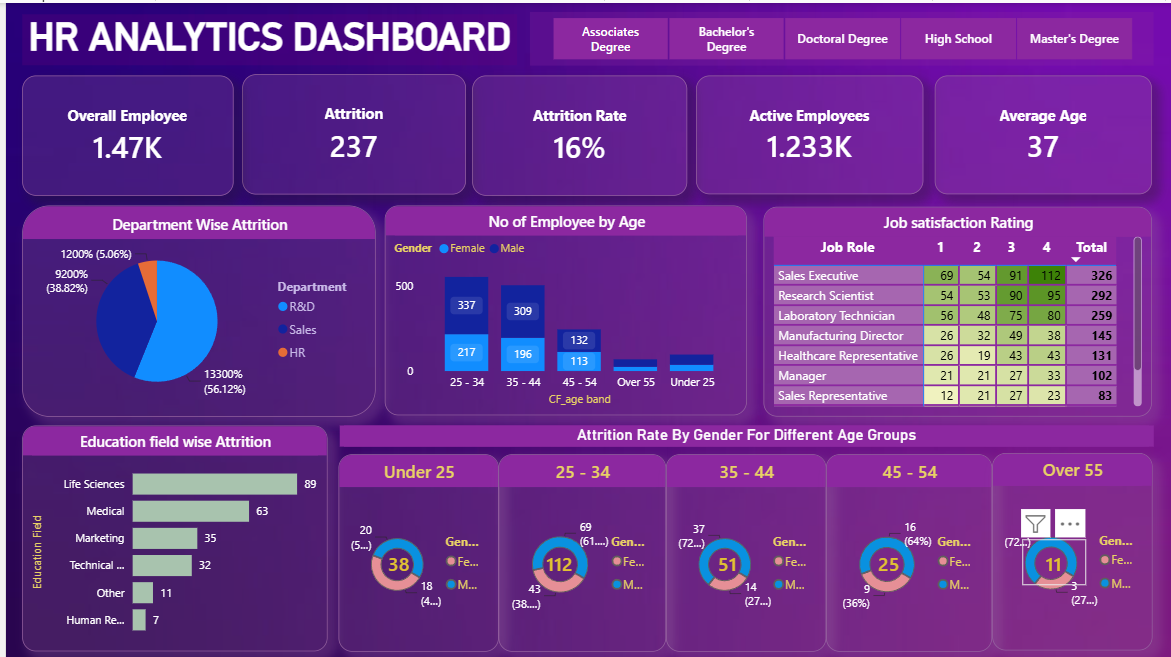

This screenshot's page, from the dashboard's own definition file:
{"tool":"powerbi","page":{"name":"Page 1","canvas":[1280,720],"ordinal":0},"visuals":[{"type":"cardVisual","fields":{"Data":["Sum(HR data.Attriction Count)"]},"box":[259.3,78.2,245.6,131.7],"z":0},{"type":"cardVisual","fields":{"Data":["HR data.Attrition Rate"]},"box":[511.8,79.6,236,131.7],"z":1000},{"type":"cardVisual","title":"Overall Employees","fields":{"Data":["Sum(HR data.Employee Count)"]},"box":[17.8,79.6,231.9,131.7],"z":2000},{"type":"cardVisual","title":"Active Employees","fields":{"Data":["HR data.Active Employees"]},"box":[757.5,79.6,249.7,130.4],"z":3000},{"type":"cardVisual","title":"Average Age","fields":{"Data":["Avg(HR data.Age)"]},"box":[1019.6,79.6,238.8,130.4],"z":4000},{"type":"pieChart","title":"Department Wise Attrition ","fields":{"Category":["HR data.Department"],"Y":["Sum(HR data.Attriction Count)"]},"box":[17.8,222.3,388.3,231.9],"z":5000},{"type":"columnChart","title":"No of Employee  by Age","fields":{"Category":["HR data.CF_age band"],"Y":["Sum(HR data.Employee Count)"],"Series":["HR data.Gender"]},"box":[415.8,222.3,397.9,230.5],"z":6000},{"type":"pivotTable","title":"Job satisfaction Rating","fields":{"Rows":["HR data.Job Role"],"Columns":["HR data.Job Satisfaction"],"Values":["Sum(HR data.Employee Count)"]},"box":[831.6,223.7,426.8,230.5],"z":7000},{"type":"barChart","title":"Education field wise Attrition","fields":{"Category":["HR data.Education Field"],"Y":["Sum(HR data.Attriction Count)"]},"box":[17.8,463.8,334.8,248.4],"z":8000},{"type":"donutChart","title":"Under 25","fields":{"Category":["HR data.Gender"],"Y":["Sum(HR data.Attriction Count)"],"Series":["HR data.CF_age band"]},"box":[365,495.4,175.6,216.8],"z":9000},{"type":"textbox","title":"Attrition Rate By Gender For Different Age Groups","box":[366.4,463.8,893.3,23.3],"z":10000},{"type":"donutChart","title":"25 - 34","fields":{"Category":["HR data.Gender"],"Y":["Sum(HR data.Attriction Count)"],"Series":["HR data.CF_age band"]},"box":[540.7,495.4,183.9,216.8],"z":11000},{"type":"donutChart","title":"35 - 44","fields":{"Category":["HR data.Gender"],"Y":["Sum(HR data.Attriction Count)"],"Series":["HR data.CF_age band"]},"box":[724.5,495.4,175.6,216.8],"z":12000},{"type":"donutChart","title":"45 - 54","fields":{"Category":["HR data.Gender"],"Y":["Sum(HR data.Attriction Count)"],"Series":["HR data.CF_age band"]},"box":[900.2,495.4,182.5,216.8],"z":13000},{"type":"donutChart","title":"Over 55","fields":{"Category":["HR data.Gender"],"Y":["Sum(HR data.Attriction Count)"],"Series":["HR data.CF_age band"]},"box":[1082.7,494,175.6,216.8],"z":14000},{"type":"cardVisual","title":"Average Age","fields":{"Data":["Sum(HR data.Attriction Count)"]},"box":[396.6,588.7,70,50.8],"z":15000},{"type":"cardVisual","title":"Average Age","fields":{"Data":["Sum(HR data.Attriction Count)"]},"box":[561.2,588.7,93.3,50.8],"z":16000},{"type":"cardVisual","title":"Average Age","fields":{"Data":["Sum(HR data.Attriction Count)"]},"box":[757.5,588.7,70,50.8],"z":17000},{"type":"cardVisual","title":"Average Age","fields":{"Data":["Sum(HR data.Attriction Count)"]},"box":[934.5,588.7,70,50.8],"z":18000},{"type":"cardVisual","title":"Average Age","fields":{"Data":["Sum(HR data.Attriction Count)"]},"box":[1115.6,588.7,70,50.8],"z":19000},{"type":"textbox","title":"HR ANALYTICS DASHBOARD","box":[17.8,12.3,543.4,56.3],"z":20000},{"type":"slicer","fields":{"Values":["HR data.Education"]},"box":[575,9.6,684.7,59],"z":21000}]}

Visuals, with their boxes in screenshot pixels (x1, y1, x2, y2), scaled from the page's 1280x720 canvas onto the 1171x657 screenshot:
cardVisual - Sum(HR data.Attriction Count): [left=237, top=71, right=462, bottom=192]
cardVisual - HR data.Attrition Rate: [left=468, top=73, right=684, bottom=193]
"Overall Employees" cardVisual: [left=16, top=73, right=228, bottom=193]
"Active Employees" cardVisual: [left=693, top=73, right=921, bottom=192]
"Average Age" cardVisual: [left=933, top=73, right=1151, bottom=192]
"Department Wise Attrition " pieChart: [left=16, top=203, right=372, bottom=414]
"No of Employee  by Age" columnChart: [left=380, top=203, right=744, bottom=413]
"Job satisfaction Rating" pivotTable: [left=761, top=204, right=1151, bottom=414]
"Education field wise Attrition" barChart: [left=16, top=423, right=323, bottom=650]
"Under 25" donutChart: [left=334, top=452, right=495, bottom=650]
"Attrition Rate By Gender For Different Age Groups" textbox: [left=335, top=423, right=1152, bottom=444]
"25 - 34" donutChart: [left=495, top=452, right=663, bottom=650]
"35 - 44" donutChart: [left=663, top=452, right=823, bottom=650]
"45 - 54" donutChart: [left=824, top=452, right=991, bottom=650]
"Over 55" donutChart: [left=991, top=451, right=1151, bottom=649]
"Average Age" cardVisual: [left=363, top=537, right=427, bottom=584]
"Average Age" cardVisual: [left=513, top=537, right=599, bottom=584]
"Average Age" cardVisual: [left=693, top=537, right=757, bottom=584]
"Average Age" cardVisual: [left=855, top=537, right=919, bottom=584]
"Average Age" cardVisual: [left=1021, top=537, right=1085, bottom=584]
"HR ANALYTICS DASHBOARD" textbox: [left=16, top=11, right=513, bottom=63]
slicer - HR data.Education: [left=526, top=9, right=1152, bottom=63]
